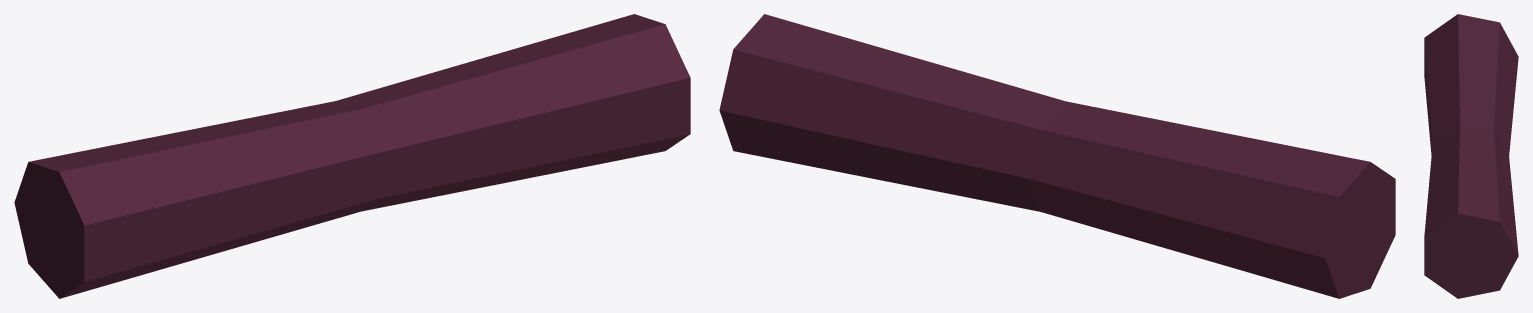
The model's file is log_001_grp.fbx.
The picture shows the model from 3 angles, left to right: view 1: azimuth 30°, elevation 25°; view 2: azimuth 150°, elevation 25°; view 3: azimuth 270°, elevation 25°; orthographic projection. The views are drawn at different scales.
Visible parts, largest first — view 1: log_001_grp; view 2: log_001_grp; view 3: log_001_grp.
Boxes of the visible parts, x1,y1,x2,y2 form: log_001_grp: (14,14,690,298); log_001_grp: (719,14,1395,298); log_001_grp: (1424,14,1518,298).
Bounding box in the file's own units: 200 × 40 × 40.
